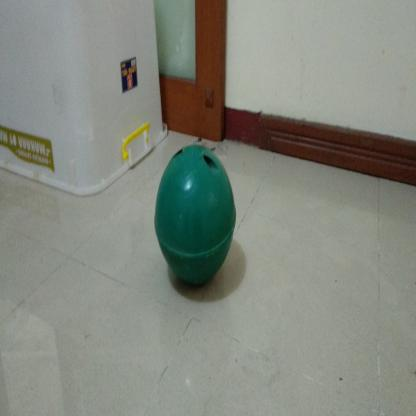green_buoy: (152, 143, 240, 292)
